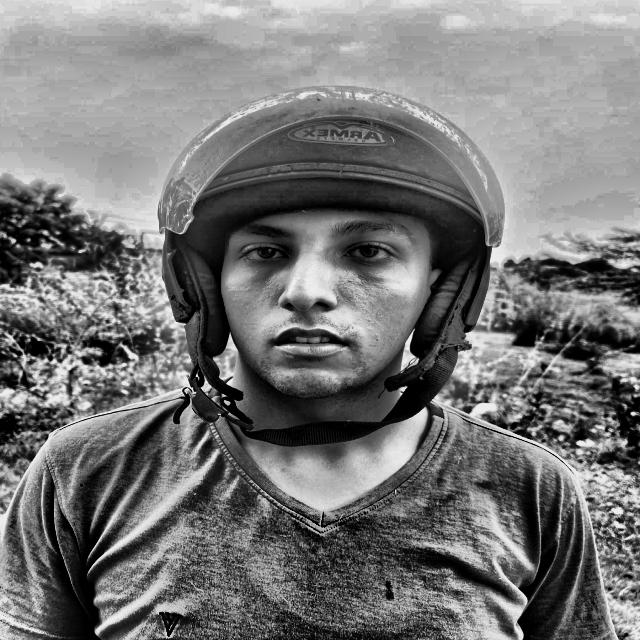Helmet: (128, 96, 513, 432)
